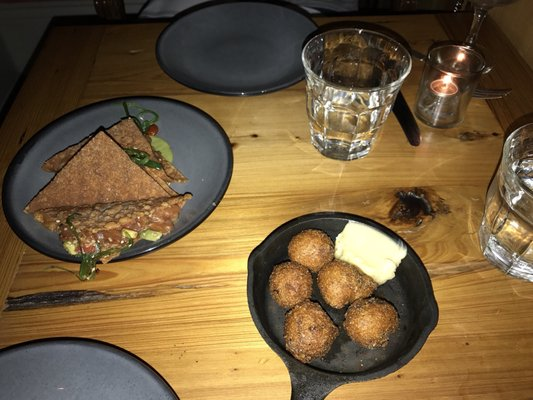pizza: (301, 23, 415, 162), (479, 116, 533, 285), (415, 44, 490, 129)
soup: (24, 121, 191, 273)
sushi: (246, 213, 439, 395)
